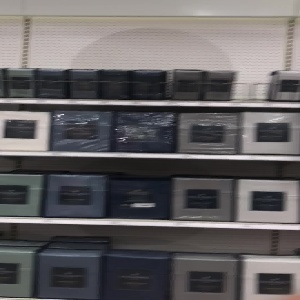void: (232, 22, 276, 101)
